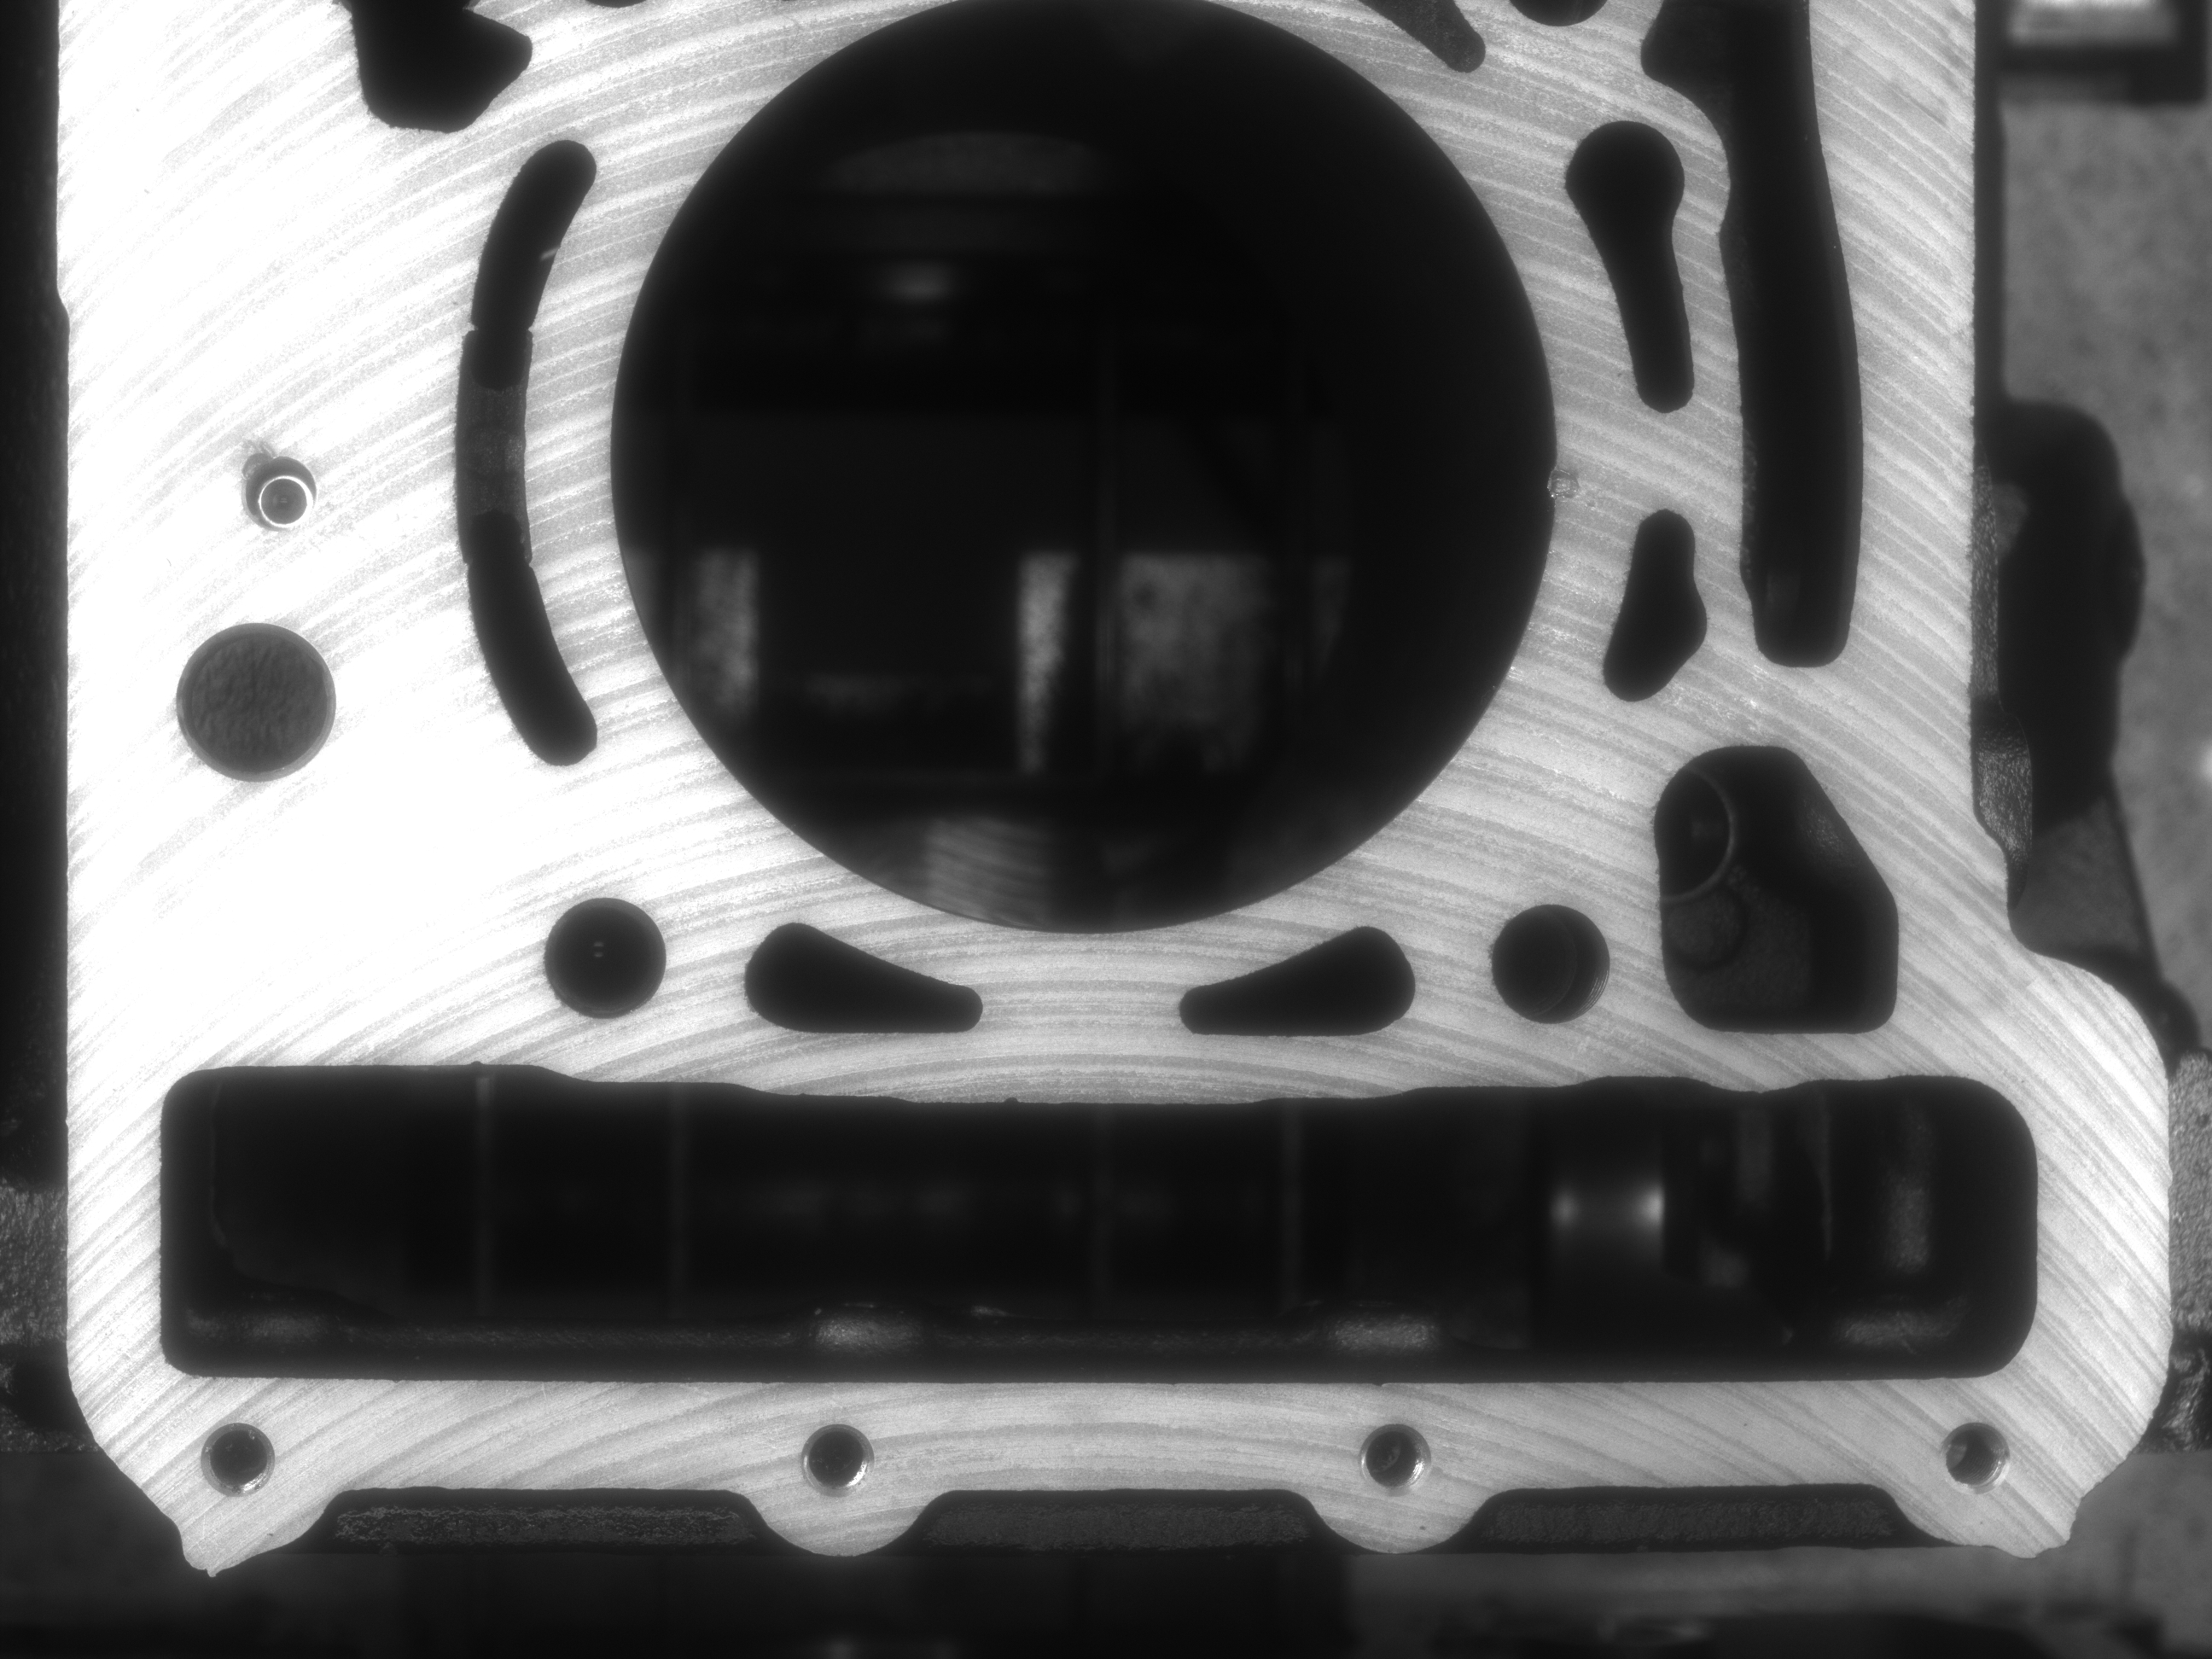shrinkage: (232, 422, 273, 474), (1547, 460, 1583, 507)
